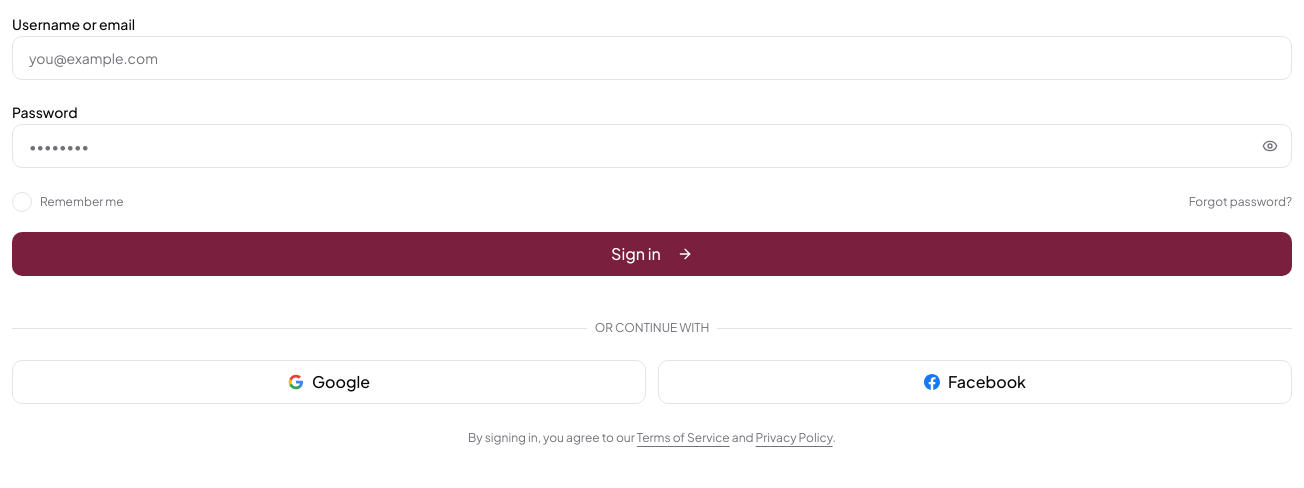
it: LoginForm (F8.2) › displays a safe error banner and maps field errors from a 422 response
In the field labelled "Username or email": point(652, 58) x1=12 y1=36 x2=1292 y2=80, type "wrong@example.com"
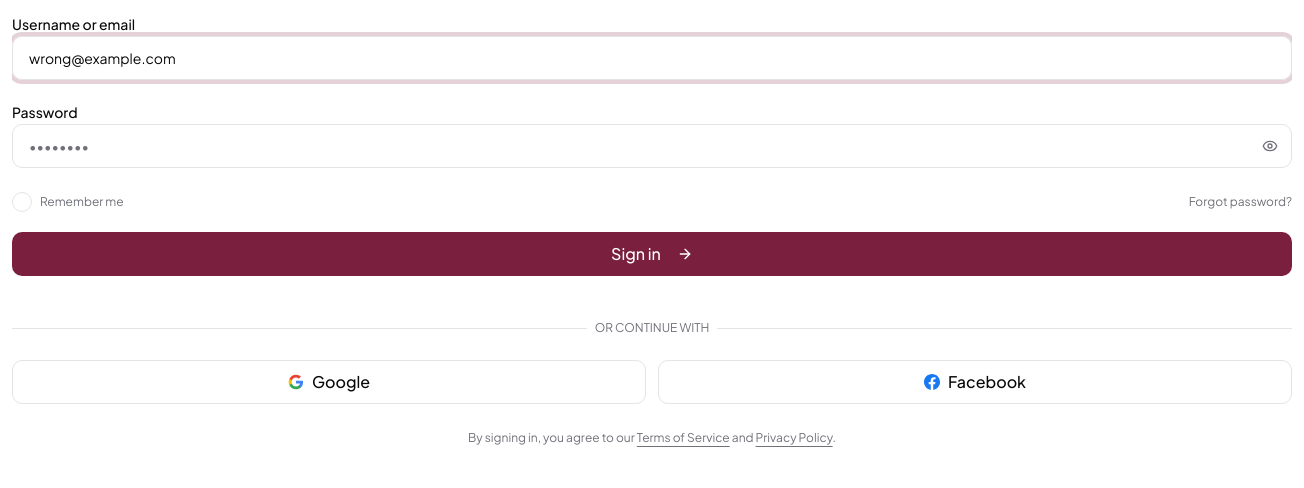
In the password field with placeholder "••••••••": point(652, 146) x1=12 y1=124 x2=1292 y2=168, type "wrongpassword"
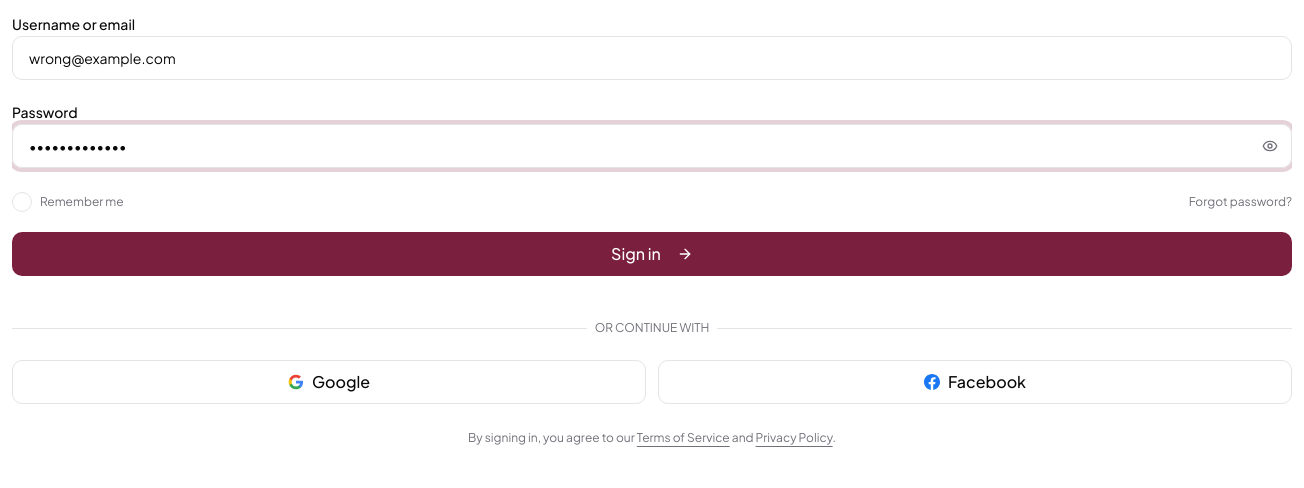
Click the button "Sign in": point(652, 254) x1=12 y1=232 x2=1292 y2=276
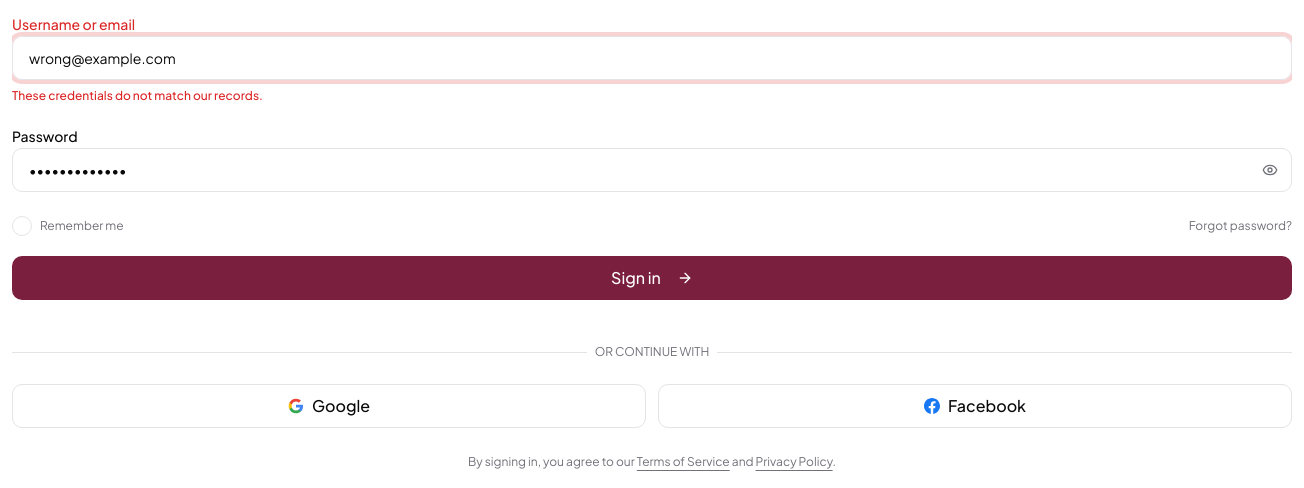
Result: the text "These credentials do not match our records." is shown at x1=12 y1=88 x2=263 y2=103
